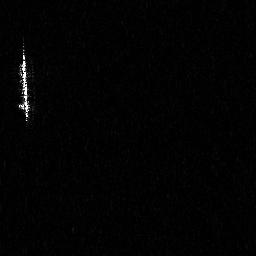ship: (16, 37, 33, 125)
